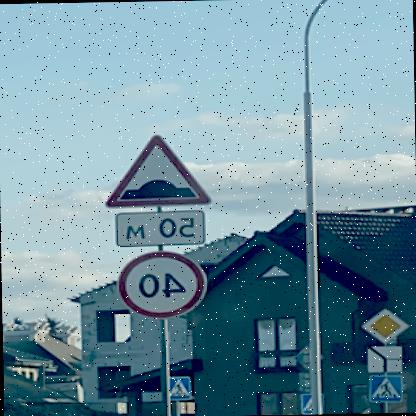crosswalk: (371, 372, 405, 400), (302, 391, 327, 412), (170, 376, 192, 397)
speedlimit: (118, 248, 209, 318)
